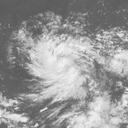cyclone: (23, 28, 94, 101)
